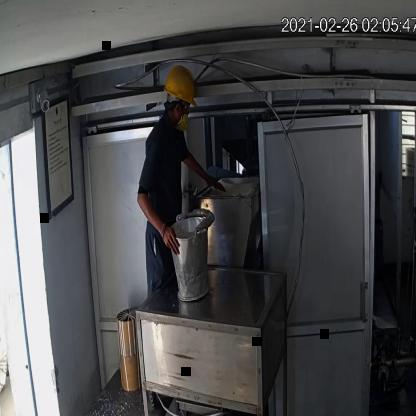helmet: (160, 64, 200, 110)
